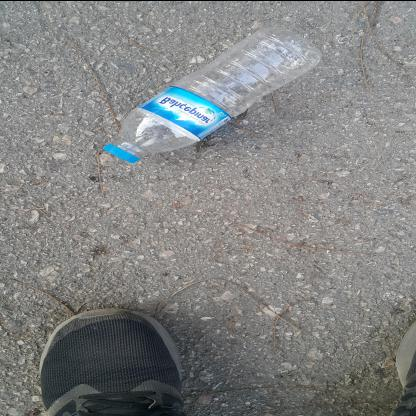plastik: (103, 26, 325, 162)
